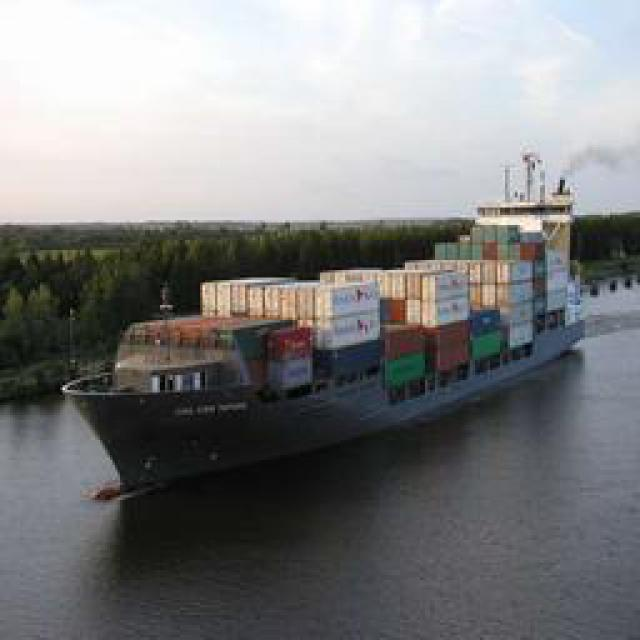Ship: (67, 254, 590, 504)
